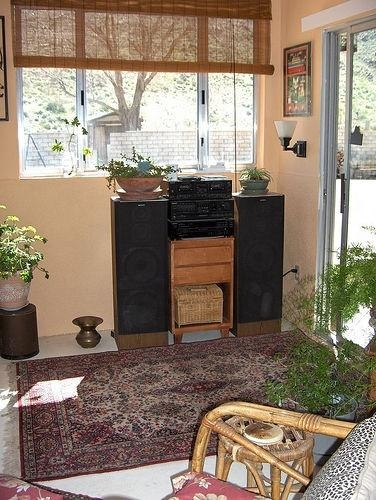chair: (2, 401, 375, 500)
pottedplant: (264, 338, 360, 470), (1, 203, 50, 312), (96, 146, 183, 201), (240, 166, 274, 195)
